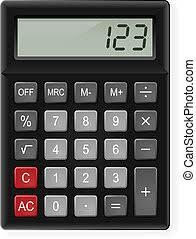Calculator: (1, 0, 169, 234)
